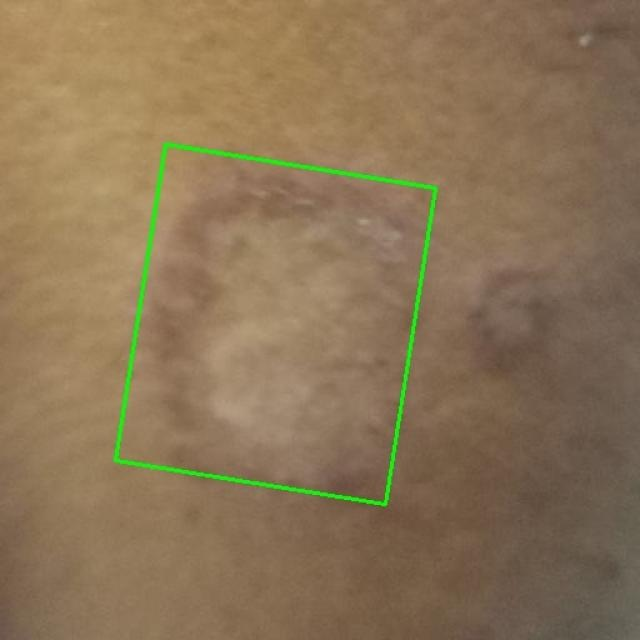Tinea Corporis: (115, 144, 436, 504)
